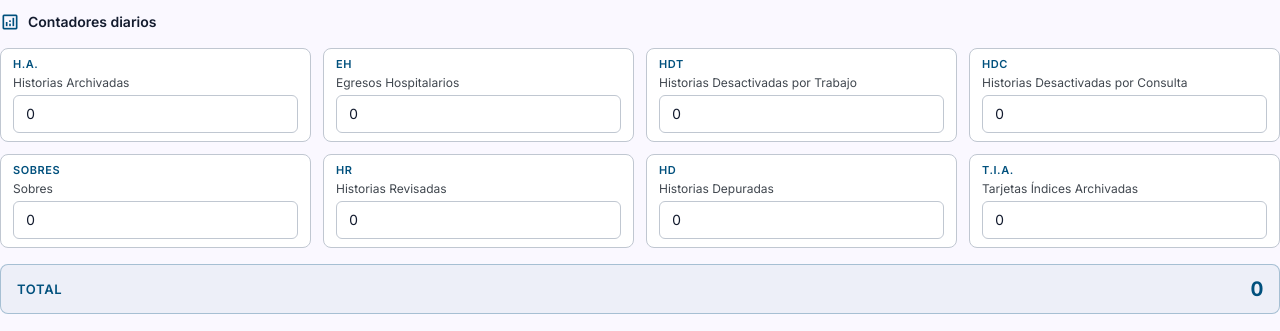
ContadoresLibro › Total se actualiza al modificar varios contadores
Replace the text in the number field labelled "Historias Archivadas" with "3" at (156, 114), box [13,95,298,133]
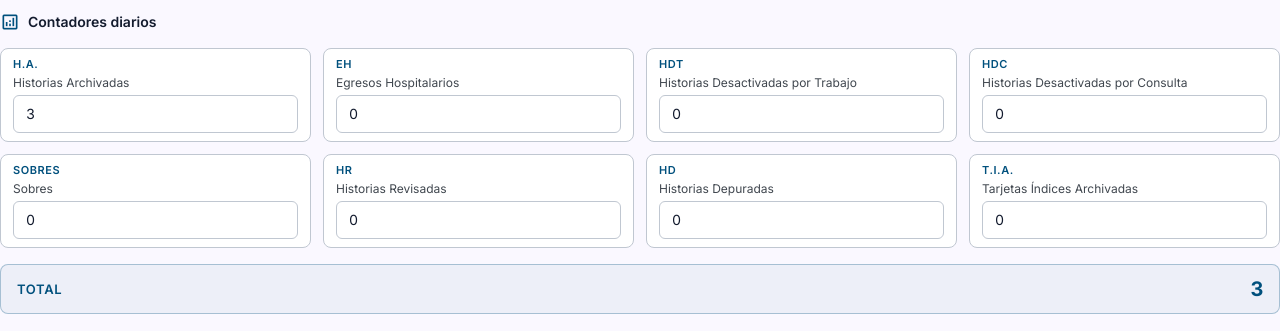
Replace the text in the number field labelled "Egresos Hospitalarios" with "2" at (478, 114), box [336,95,621,133]
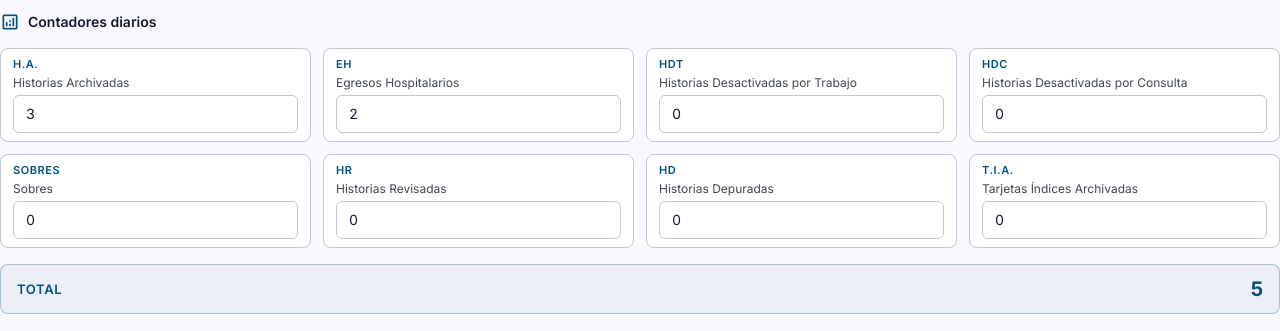
Replace the text in the number field labelled "Sobres" with "4" at (156, 220), box [13,201,298,239]
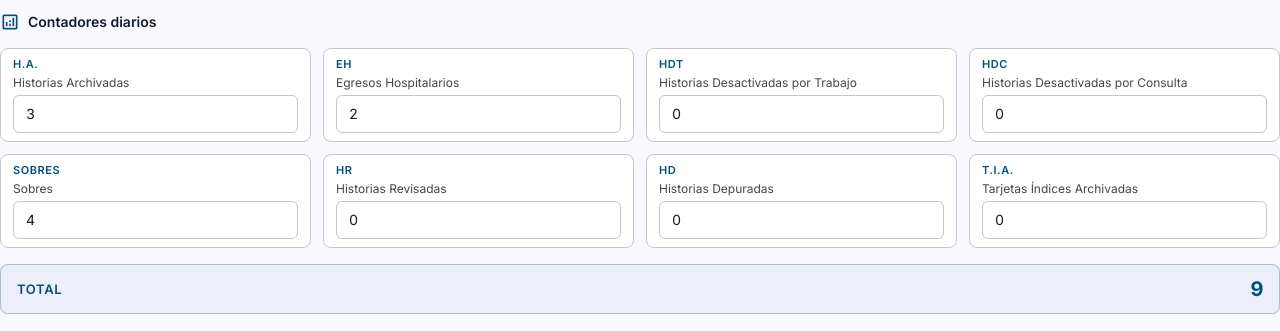
Expected: the text with test id "total-contadores" reads "9", [1250,277,1263,301]
